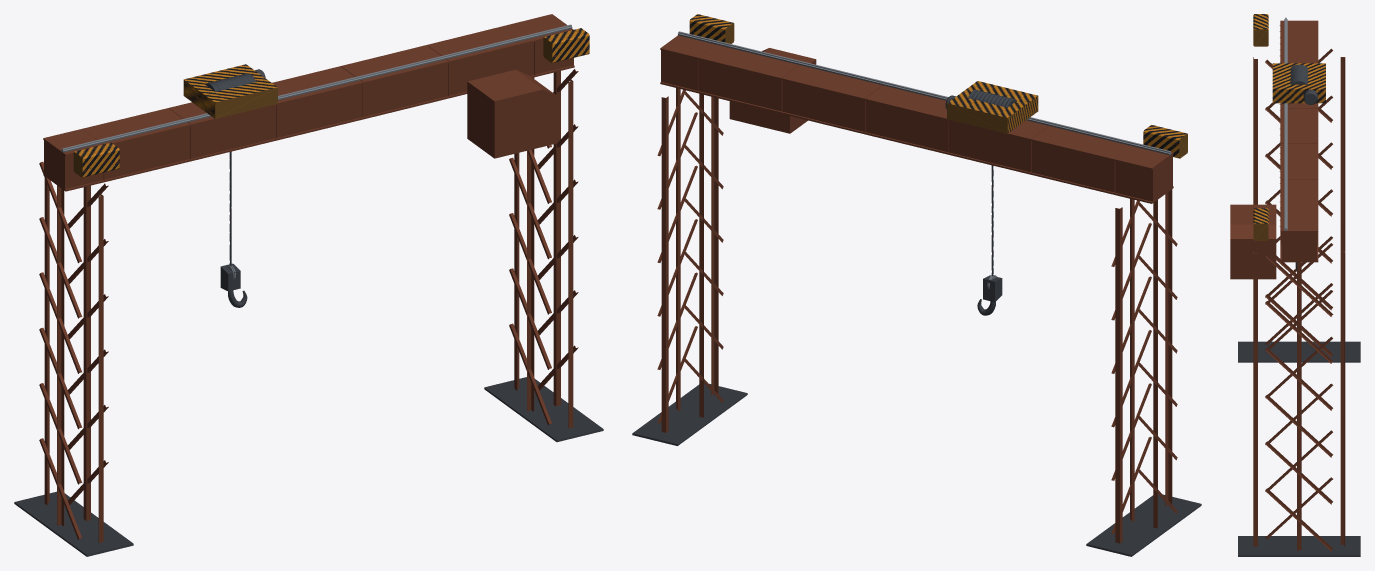
File: foundry_dress_gantry.glb
3 views of the same model, side by side, from view 1: azimuth 30°, elevation 25°; view 2: azimuth 150°, elevation 25°; view 3: azimuth 270°, elevation 25° (orthographic). The views are drawn at different scales.
Parts seen in each view (by area): view 1: gantry_girder, gantry_leg_n, gantry_leg_p, gantry_cab, gantry_trolley_frame, gantry_foot_n, gantry_foot_p, gantry_rail, gantry_stop_n, gantry_stop_p; view 2: gantry_girder, gantry_leg_n, gantry_leg_p, gantry_foot_n, gantry_foot_p, gantry_trolley_frame, gantry_rail, gantry_cab, gantry_stop_n, gantry_stop_p; view 3: gantry_leg_p, gantry_girder, gantry_leg_n, gantry_cab, gantry_foot_p, gantry_foot_n, gantry_trolley_frame, gantry_rail, gantry_stop_n, gantry_stop_p, gantry_drum, gantry_diaphragms (+1 smaller).
Boxes of the visible parts, x1,y1,x2,y2 form: gantry_girder: (43,14,574,191); gantry_leg_n: (39,161,108,542); gantry_leg_p: (509,69,578,428); gantry_cab: (467,69,557,158); gantry_trolley_frame: (183,64,277,118); gantry_foot_n: (14,491,133,556); gantry_foot_p: (484,377,603,442); gantry_rail: (61,24,572,152); gantry_stop_n: (73,142,119,177); gantry_stop_p: (543,28,589,62); gantry_girder: (660,35,1173,203); gantry_leg_n: (1111,189,1177,543); gantry_leg_p: (657,88,723,432); gantry_foot_n: (1086,494,1201,556); gantry_foot_p: (632,383,747,445); gantry_trolley_frame: (947,81,1038,133); gantry_rail: (678,31,1171,155); gantry_cab: (729,48,816,133); gantry_stop_n: (1143,124,1187,158); gantry_stop_p: (689,14,734,43); gantry_leg_p: (1253,243,1345,551); gantry_girder: (1280,20,1318,262); gantry_leg_n: (1253,48,1345,357); gantry_cab: (1230,204,1276,279); gantry_foot_p: (1238,536,1360,556); gantry_foot_n: (1238,341,1360,362); gantry_trolley_frame: (1272,63,1325,103); gantry_rail: (1284,17,1287,230); gantry_stop_n: (1253,14,1268,46); gantry_stop_p: (1253,208,1268,240); gantry_drum: (1290,64,1307,84); gantry_diaphragms: (1281,36,1317,244).
Size of the model in its own units: 13.2 by 9.95 by 3.4.
6 materials, 1 textured.
